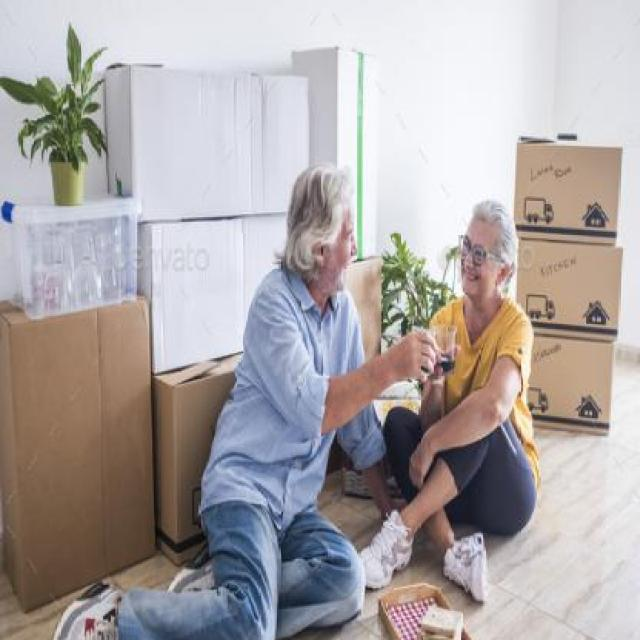box: (1, 292, 164, 606), (151, 339, 247, 568), (513, 228, 627, 360), (512, 131, 625, 251), (527, 326, 615, 446)
